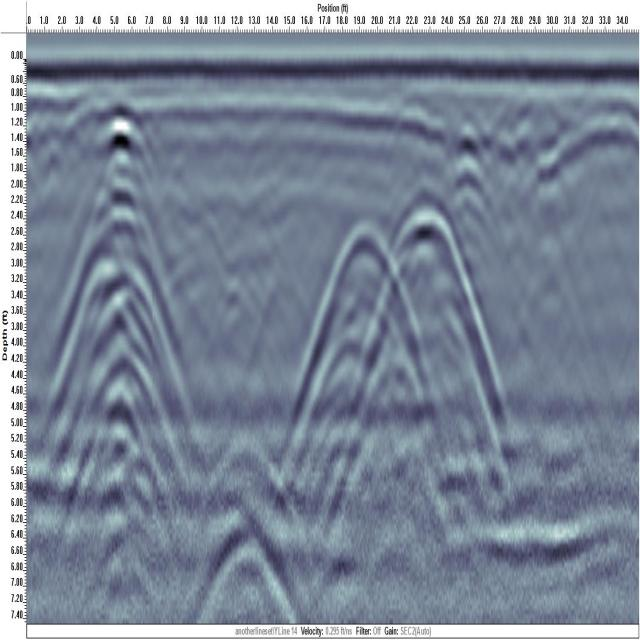hyperbola: (304, 201, 420, 399), (374, 184, 484, 382)
